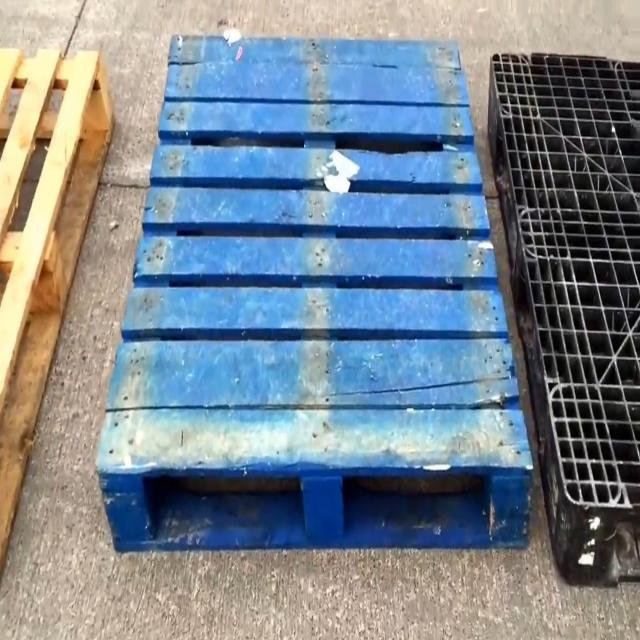Palette: (97, 28, 536, 579), (486, 40, 640, 588), (0, 41, 118, 580)
